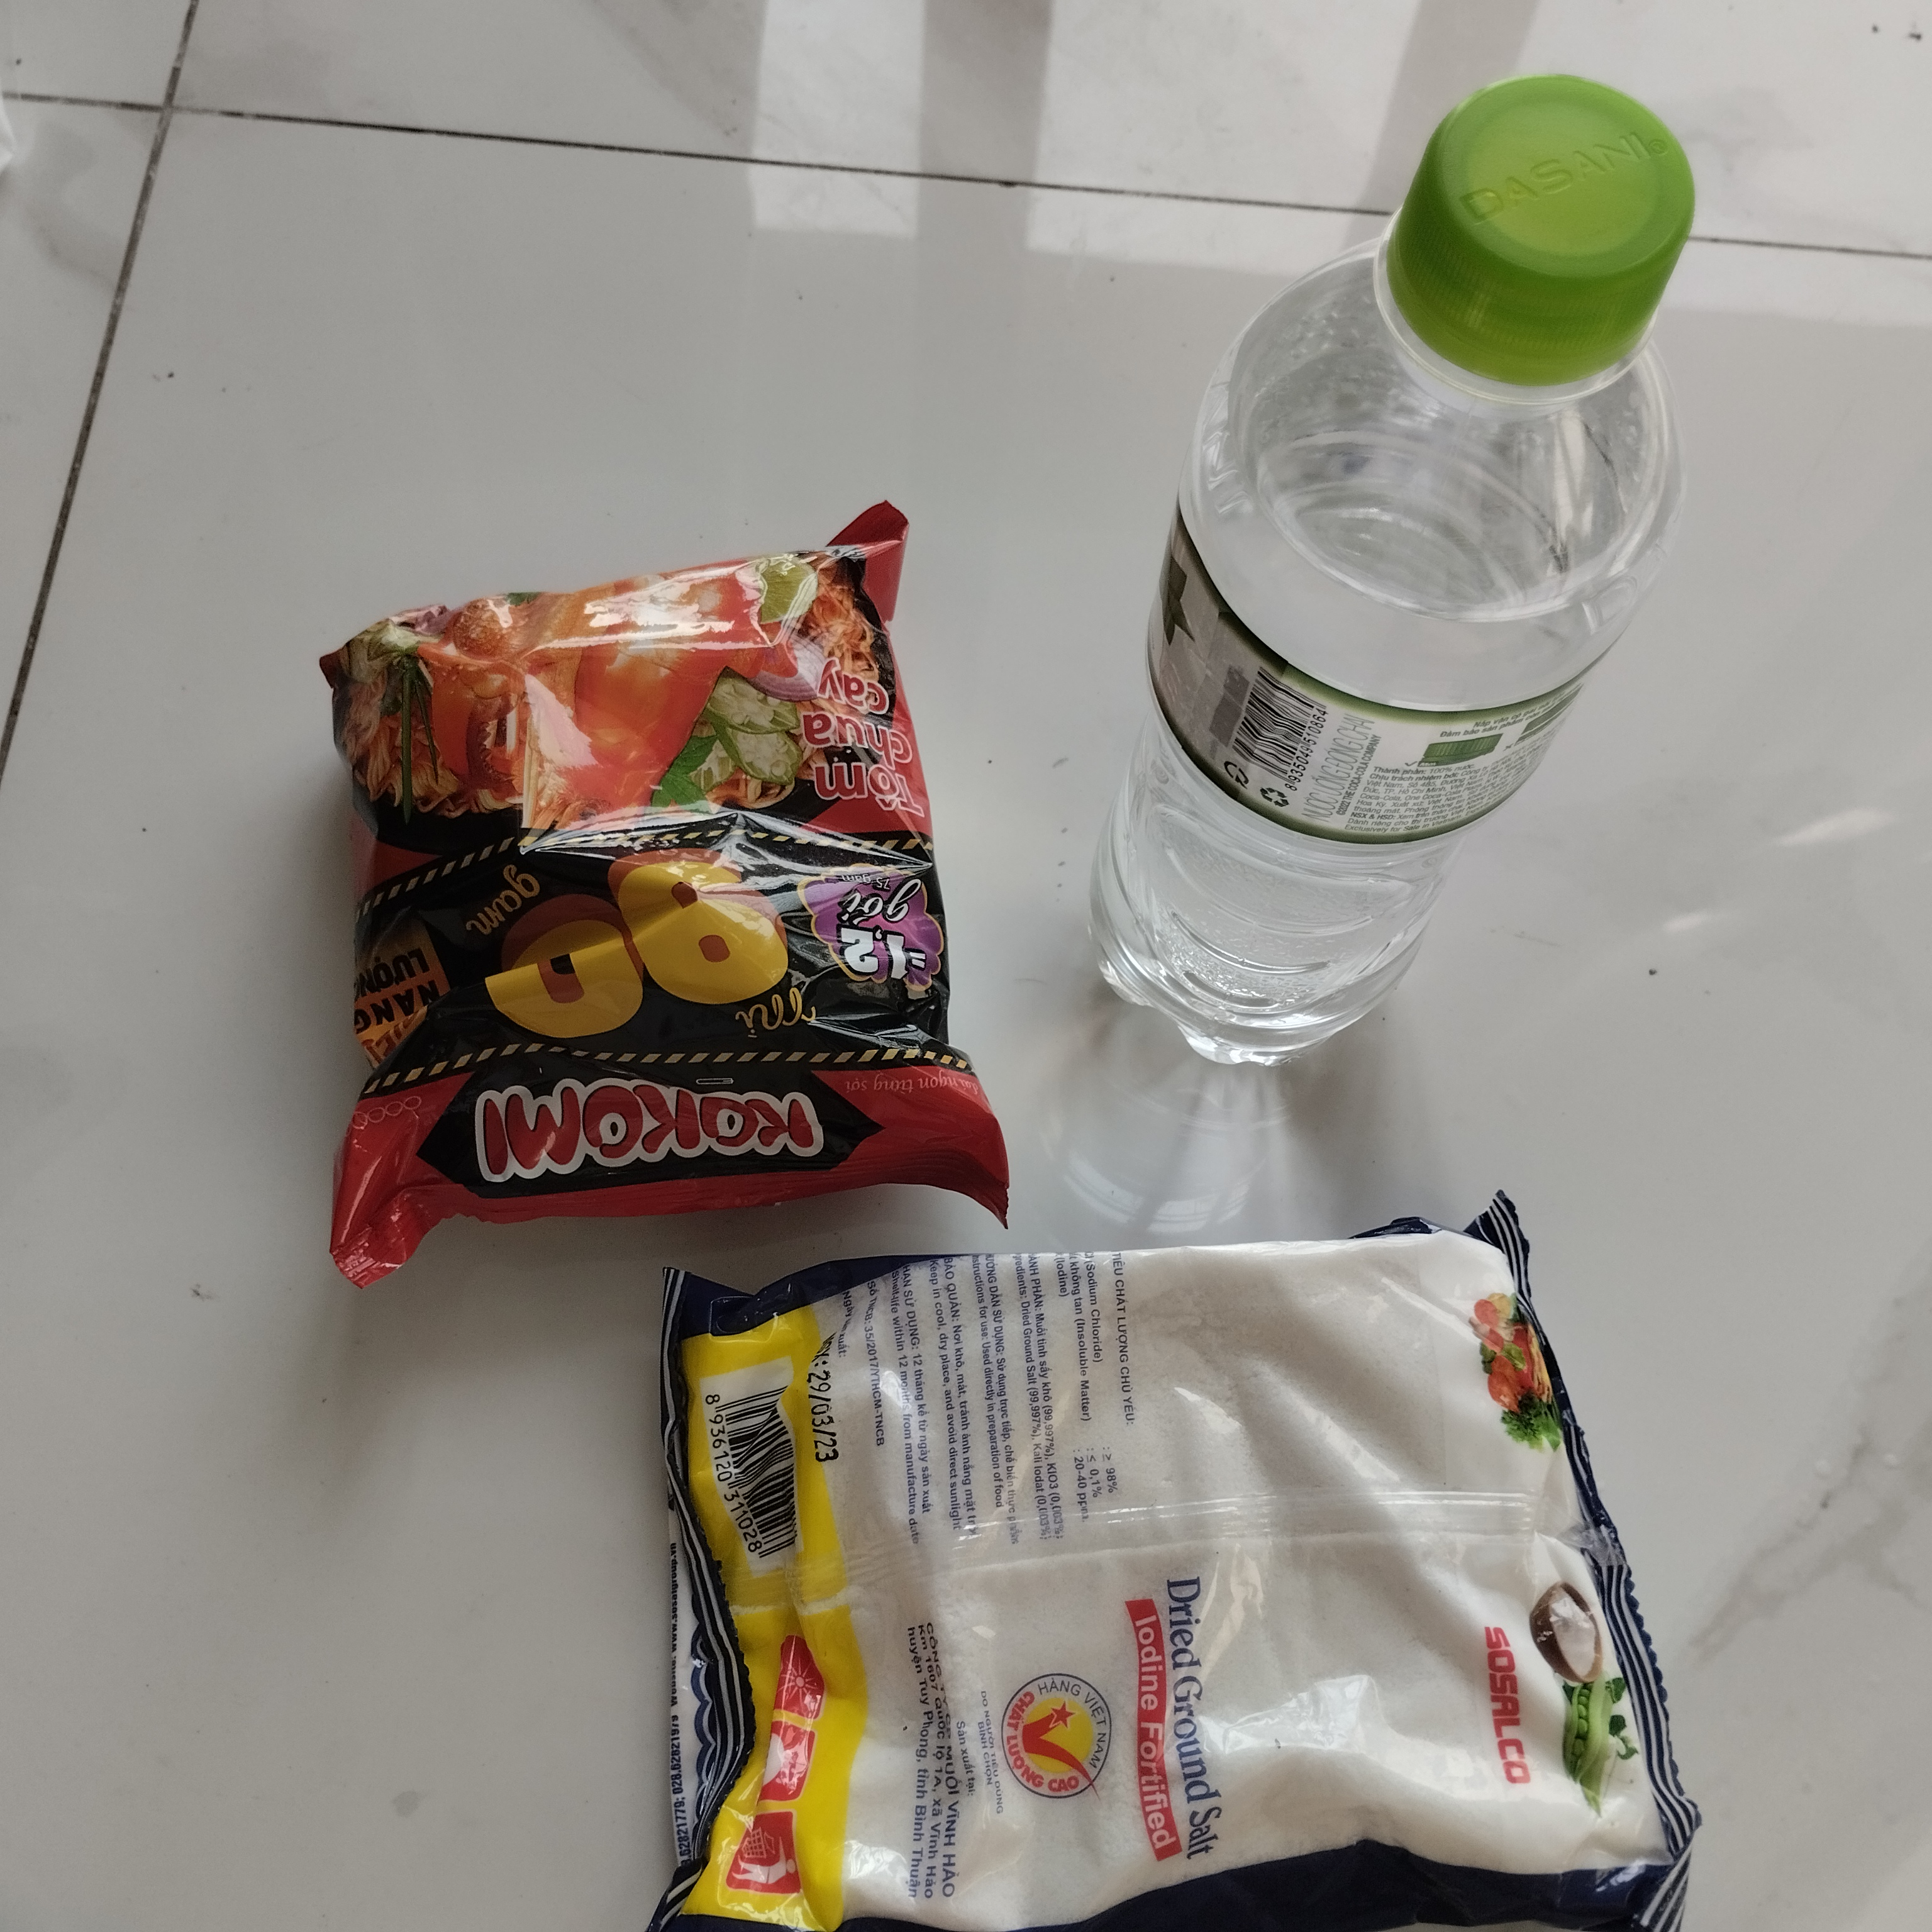Dasani: (1086, 64, 1706, 1092)
Kokomi: (301, 492, 1005, 1286)
Salt: (612, 1194, 1714, 1932)
